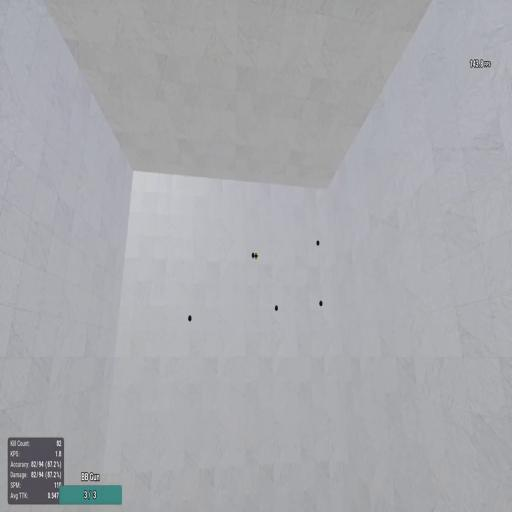Crosshair: (254, 251, 258, 260)
Target: (186, 314, 193, 323), (274, 304, 278, 311), (319, 300, 323, 306), (316, 240, 320, 246), (252, 252, 254, 258)
